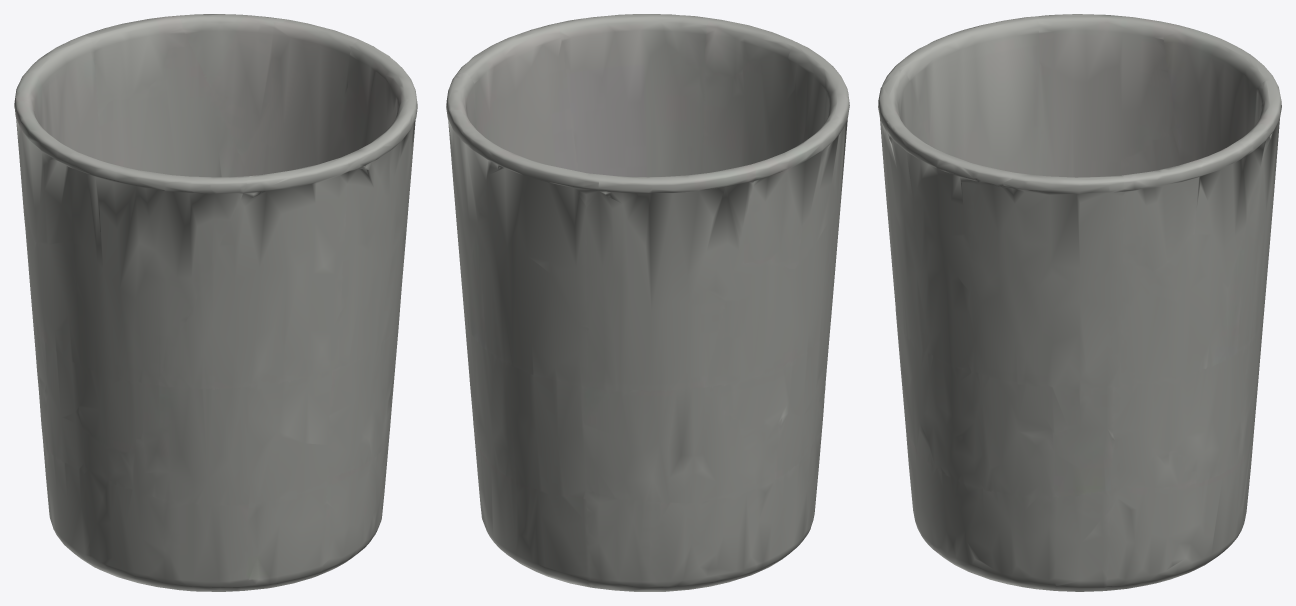
Rendered from veladora.glb.
3 renders of one model, left to right at view 1: azimuth 30°, elevation 25°; view 2: azimuth 150°, elevation 25°; view 3: azimuth 270°, elevation 25°, orthographic.
Visible parts, largest first — view 1: tripo_node_861274c9-a7c1-4c0d-a70d-6865c3582b8f; view 2: tripo_node_861274c9-a7c1-4c0d-a70d-6865c3582b8f; view 3: tripo_node_861274c9-a7c1-4c0d-a70d-6865c3582b8f.
Boxes of the visible parts, bbox=[...] form: tripo_node_861274c9-a7c1-4c0d-a70d-6865c3582b8f: bbox=[14, 14, 417, 591]; tripo_node_861274c9-a7c1-4c0d-a70d-6865c3582b8f: bbox=[446, 14, 849, 591]; tripo_node_861274c9-a7c1-4c0d-a70d-6865c3582b8f: bbox=[878, 14, 1281, 591].
Bounding box in the file's own units: 0.8518 × 1 × 0.8516.
1 material, 1 textured.
